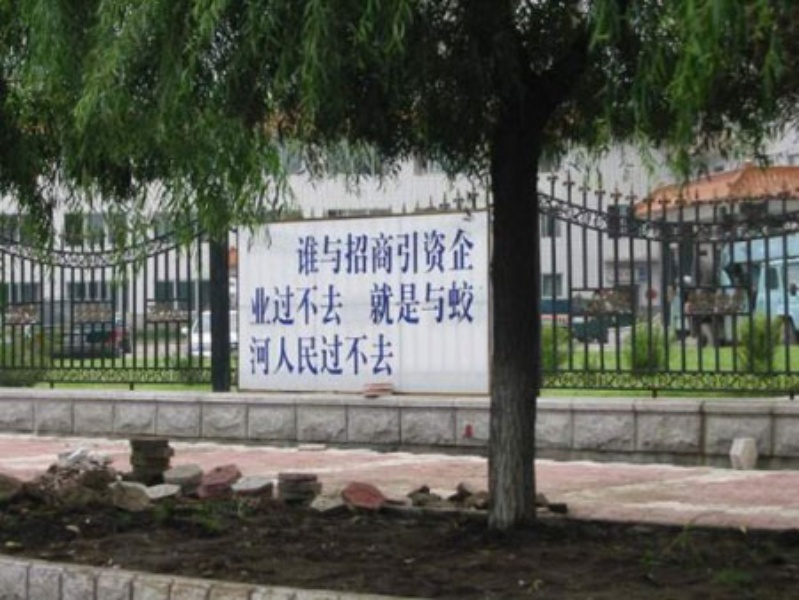text: (305, 226, 320, 277), (321, 226, 336, 277), (337, 226, 352, 277), (353, 226, 368, 277), (369, 226, 384, 277), (385, 226, 400, 277), (401, 226, 416, 277), (417, 226, 432, 277), (433, 226, 448, 277), (449, 226, 464, 277), (369, 279, 384, 325), (385, 279, 400, 325), (401, 279, 416, 325), (417, 279, 432, 325), (433, 279, 448, 325), (449, 279, 464, 325), (257, 283, 272, 324), (273, 283, 288, 324), (289, 283, 304, 324), (305, 283, 320, 324), (321, 283, 336, 324), (257, 334, 272, 375), (273, 334, 288, 375), (289, 334, 304, 375), (305, 334, 320, 375), (321, 334, 336, 375), (337, 334, 352, 375), (353, 334, 368, 375), (369, 334, 384, 375), (465, 226, 476, 277), (385, 334, 398, 375), (465, 279, 476, 325), (295, 226, 304, 277), (246, 283, 256, 324), (337, 283, 347, 324), (246, 334, 256, 375), (366, 279, 368, 325)
